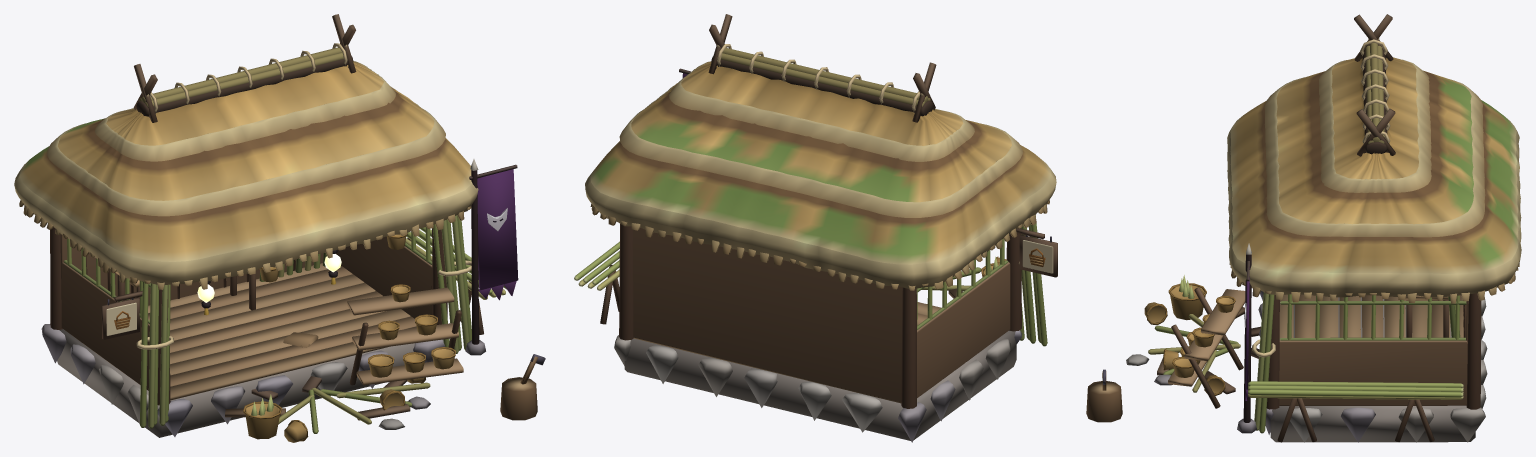
The model's file is zv-bamboo-craft.glb.
3 renders of one model, left to right at view 1: azimuth 30°, elevation 25°; view 2: azimuth 150°, elevation 25°; view 3: azimuth 270°, elevation 25°, orthographic. The views are drawn at different scales.
Parts seen in each view (by area): view 1: zv-bamboo-craft, siege, saved; view 2: zv-bamboo-craft; view 3: zv-bamboo-craft, siege, saved.
Part boxes in pixels (<box>): zv-bamboo-craft: <box>14,14,545,437</box>; siege: <box>225,159,518,442</box>; saved: <box>197,233,407,439</box>; zv-bamboo-craft: <box>574,14,1057,442</box>; zv-bamboo-craft: <box>1086,14,1521,442</box>; siege: <box>1126,243,1260,433</box>; saved: <box>1168,275,1206,320</box>.
Bounding box in the file's own units: 5.24 × 4.1 × 5.19.
